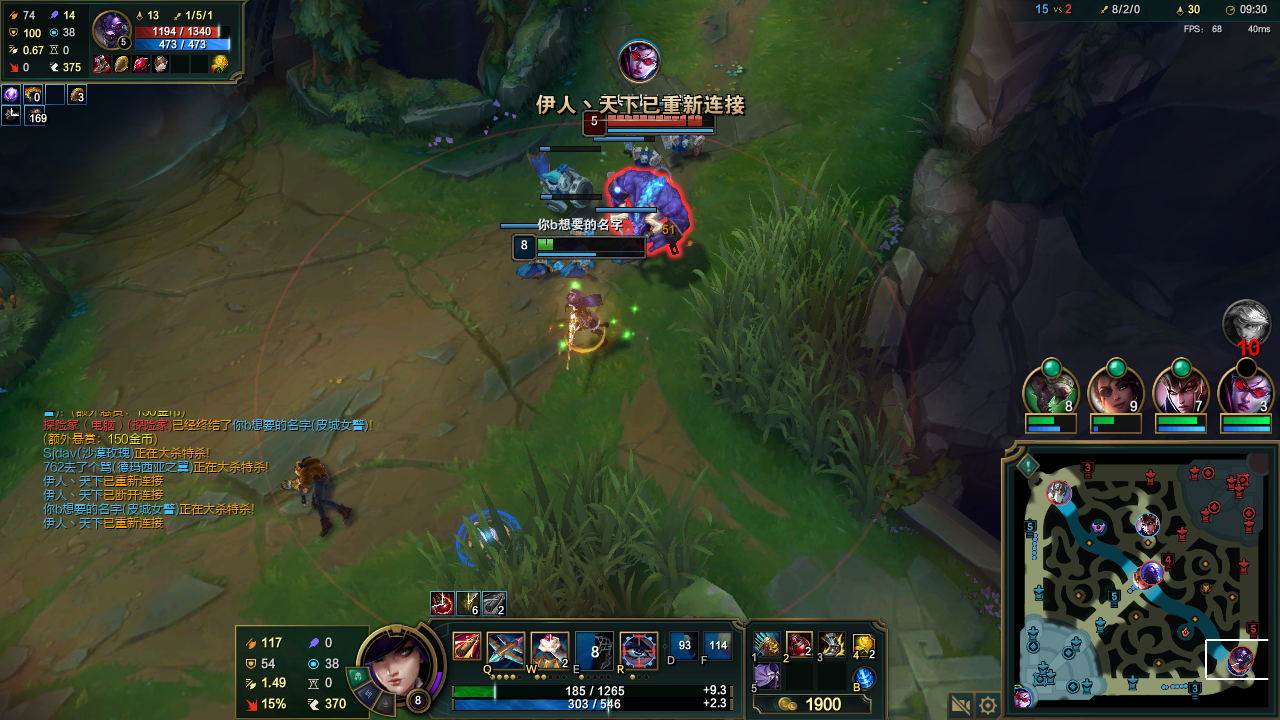DFYX: (609, 115, 712, 126)
WFXB: (533, 163, 582, 209), (668, 133, 706, 154), (634, 146, 663, 167), (565, 261, 591, 279), (529, 262, 547, 277)
